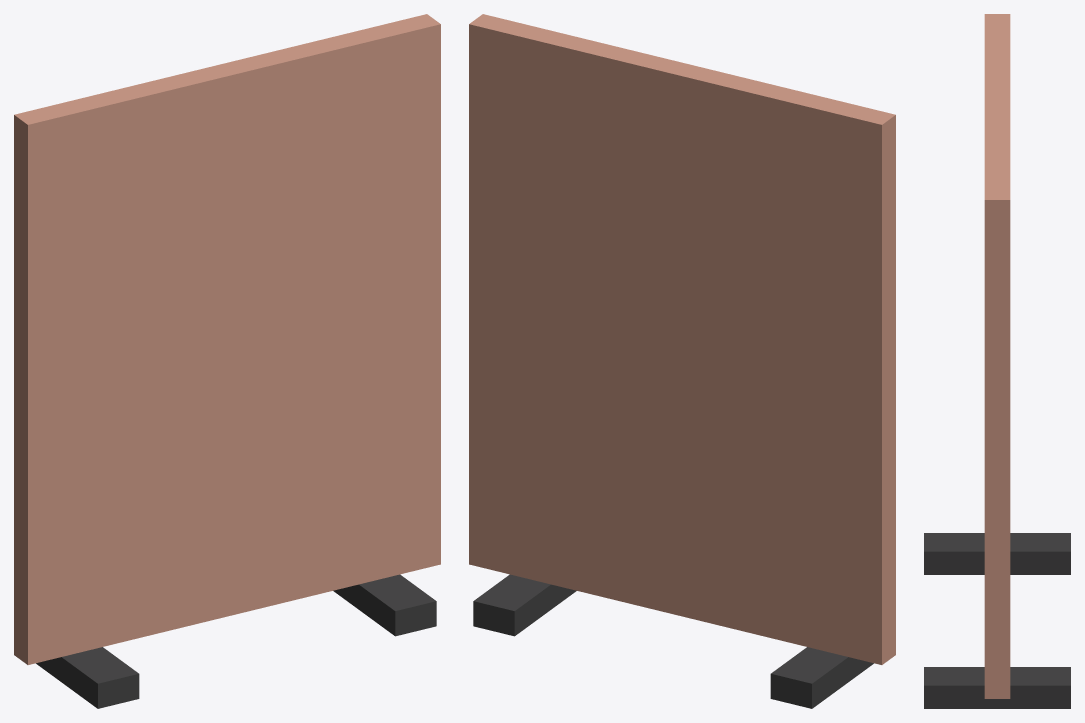
3 views of the same model, side by side, from view 1: azimuth 30°, elevation 25°; view 2: azimuth 150°, elevation 25°; view 3: azimuth 270°, elevation 25° (orthographic). The views are drawn at different scales.
Parts seen in each view (by area): view 1: Panel, Panel foot, Panel foot.001; view 2: Panel, Panel foot, Panel foot.001; view 3: Panel, Panel foot.001, Panel foot.
Boxes of the visible parts, x1,y1,x2,y2 form: Panel: (14, 14, 440, 664); Panel foot: (36, 647, 139, 708); Panel foot.001: (333, 574, 436, 636); Panel: (469, 14, 895, 664); Panel foot: (770, 647, 873, 708); Panel foot.001: (473, 574, 576, 636); Panel: (984, 14, 1010, 698); Panel foot.001: (924, 667, 1070, 708); Panel foot: (924, 533, 1070, 574).
Size of the model in its own units: 120 by 158 by 40.
